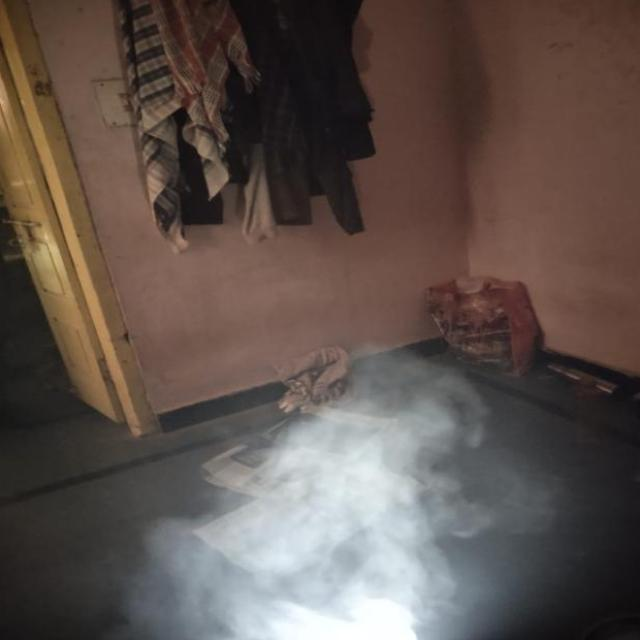fire: (169, 364, 479, 640)
